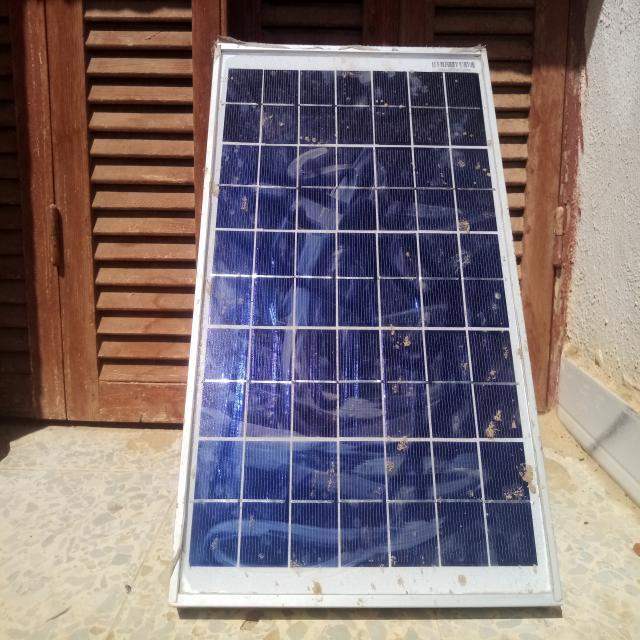faulty: (173, 44, 561, 597)
